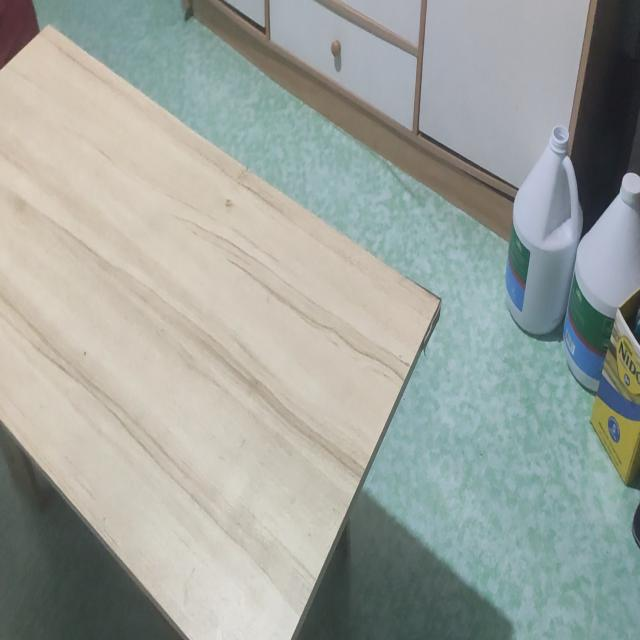table: (0, 26, 438, 637)
